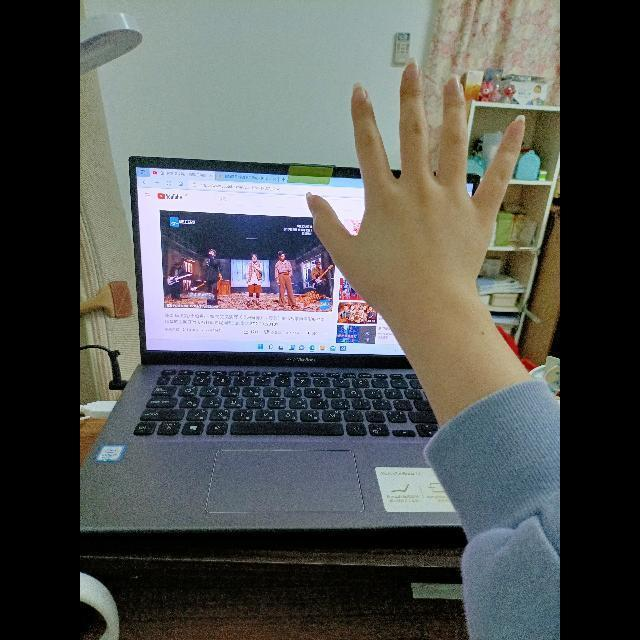bare_hand: (304, 57, 527, 321)
